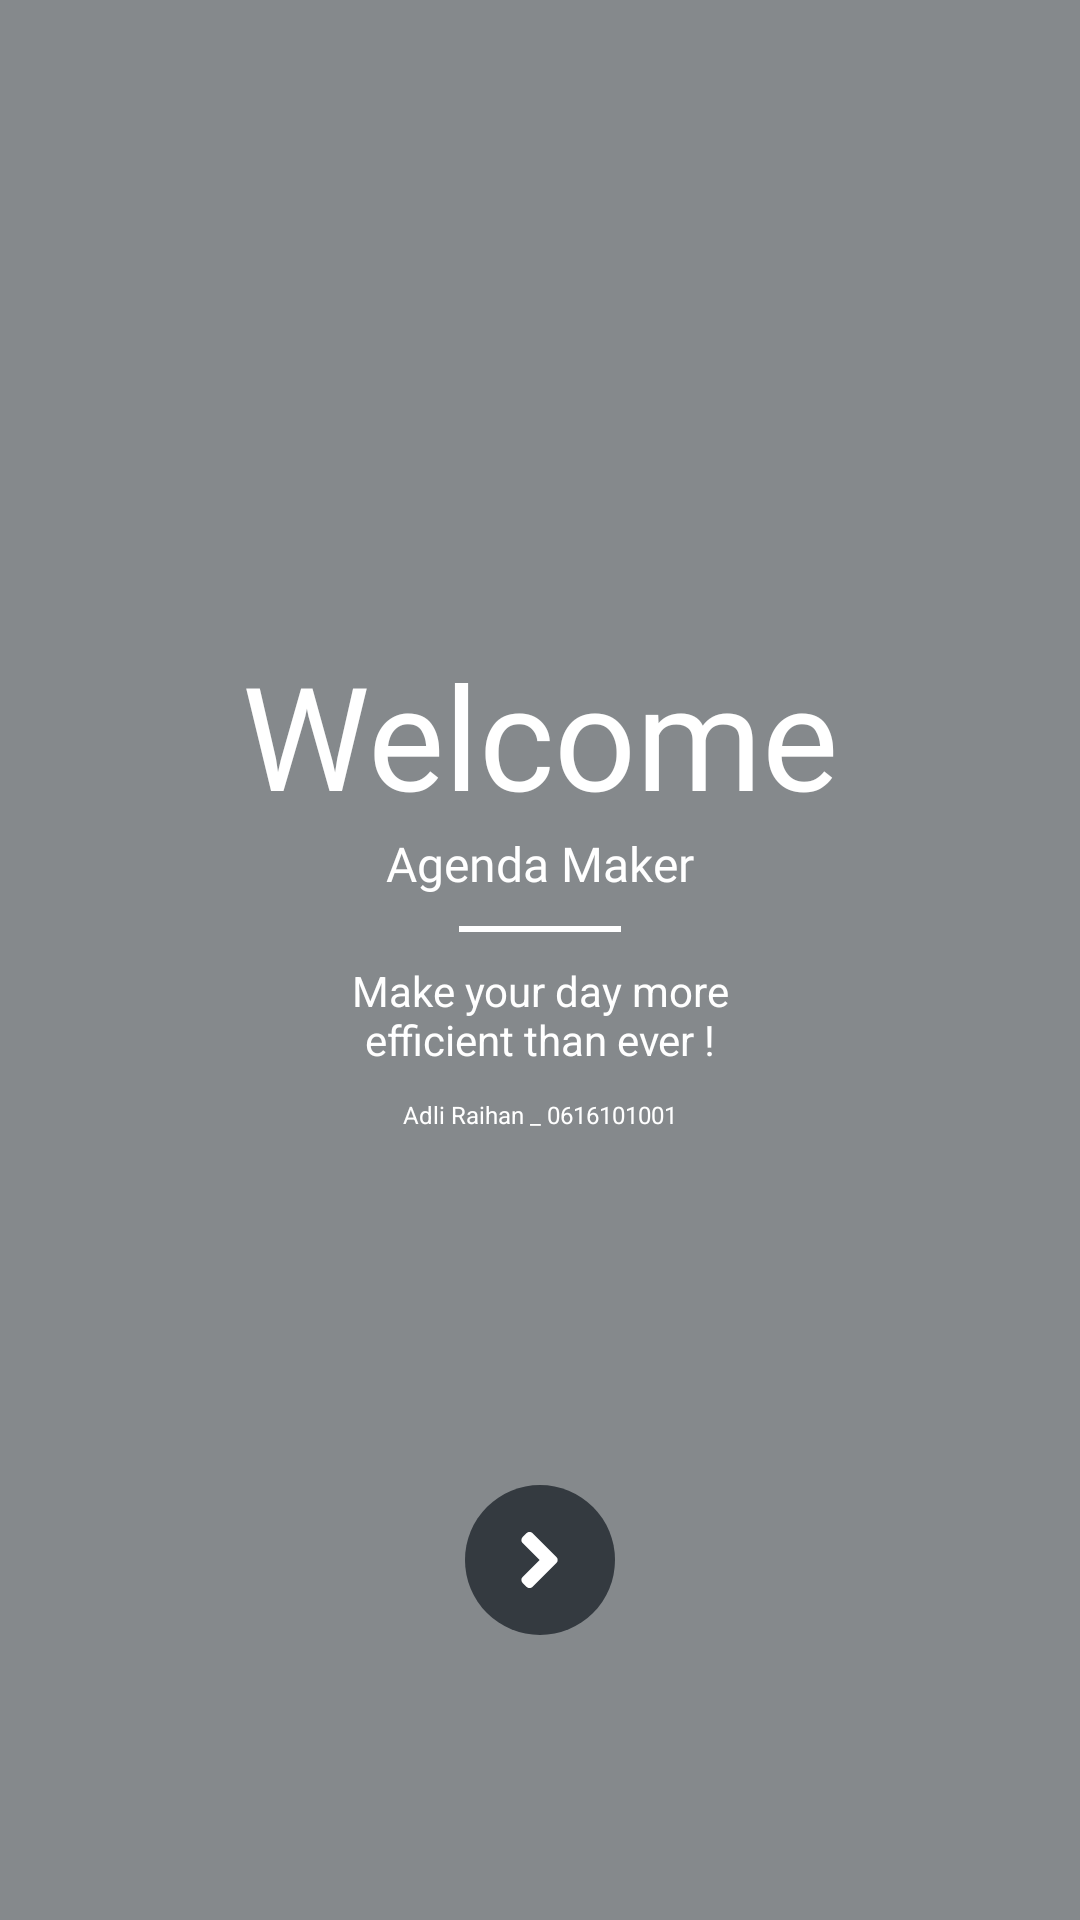

Point at icon controls on the screen. Image size 1080 x 1920, points as (x,y).
angle right: (539,1560)
